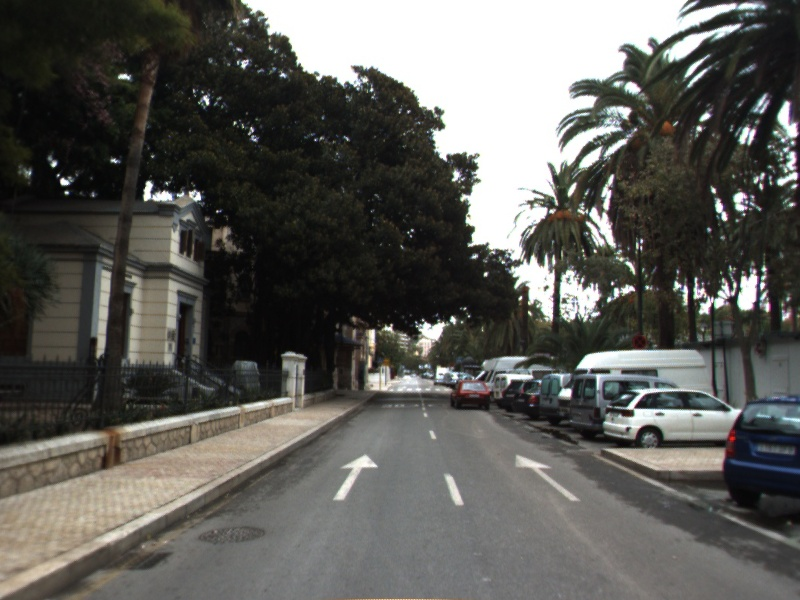STRAIGHT: (514, 453, 582, 503), (331, 452, 380, 502)
